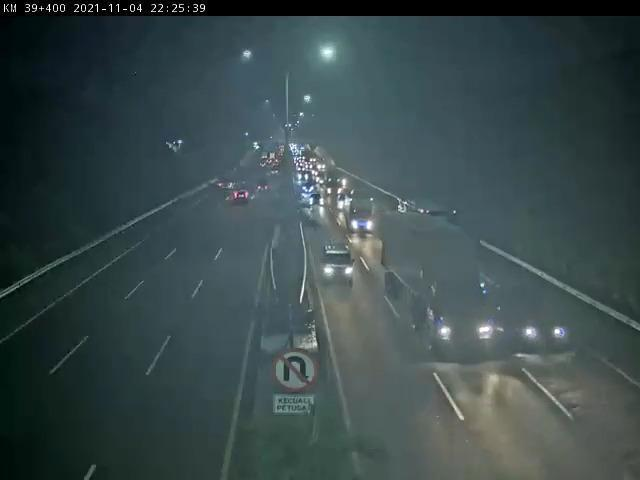car: (495, 282, 575, 353), (320, 238, 355, 282), (234, 187, 254, 207), (307, 192, 325, 206)
truck: (389, 218, 498, 358), (344, 193, 376, 233)
